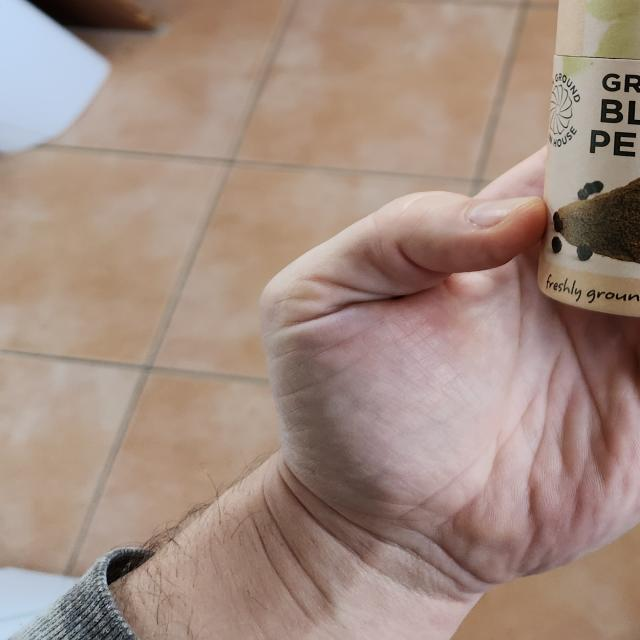black pepper: (542, 0, 640, 320)
